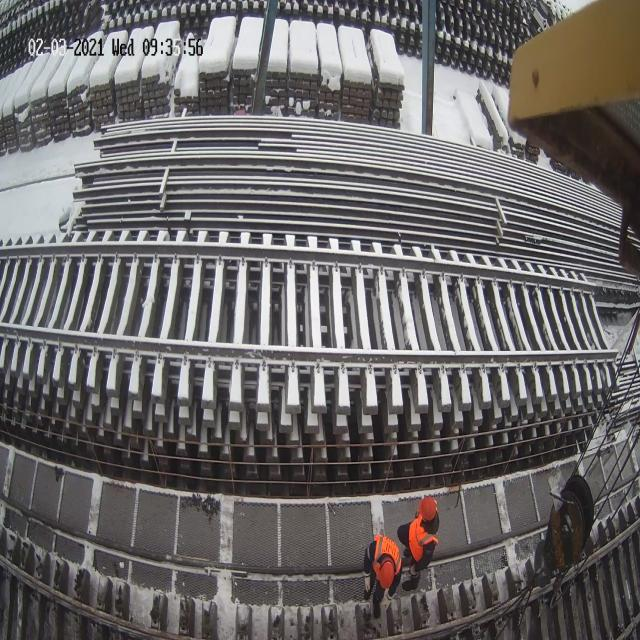Helmet: (378, 558, 394, 590), (418, 496, 438, 521)
Person: (397, 495, 439, 592), (363, 534, 402, 619)
